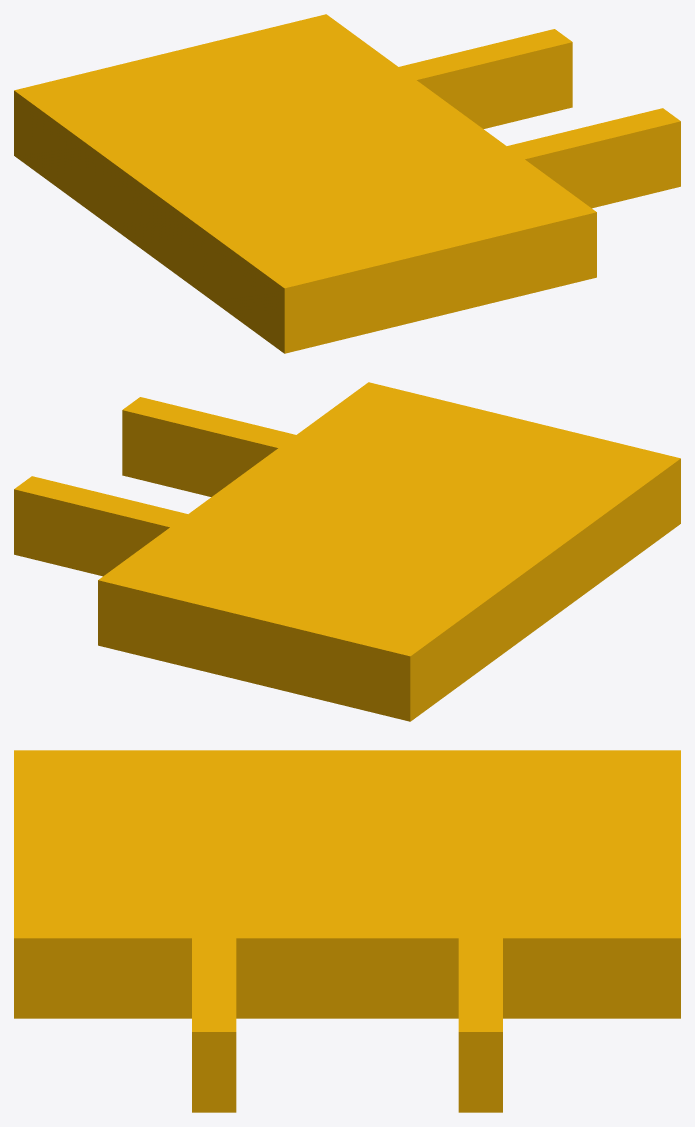
The model's file is fender_3x2.dae.
The picture shows the model from 3 angles, top to bottom: view 1: azimuth 30°, elevation 25°; view 2: azimuth 150°, elevation 25°; view 3: azimuth 270°, elevation 25°; orthographic projection. The views are drawn at different scales.
Parts seen in each view (by area): view 1: Cube; view 2: Cube; view 3: Cube.
Boxes of the visible parts, x1,y1,x2,y2 form: Cube: (14, 14, 680, 353); Cube: (14, 382, 680, 721); Cube: (14, 750, 680, 1112).
Size of the model in its own units: 0.75 by 0.75 by 0.1.
